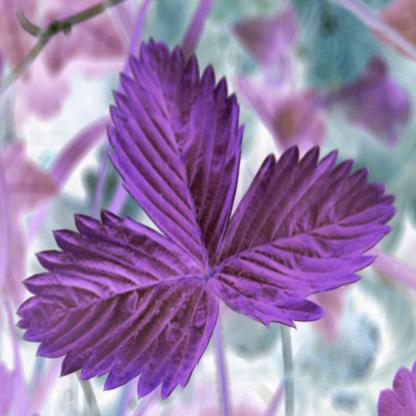Strawberry leaf: (13, 204, 221, 394), (216, 140, 398, 336), (105, 34, 244, 267)
